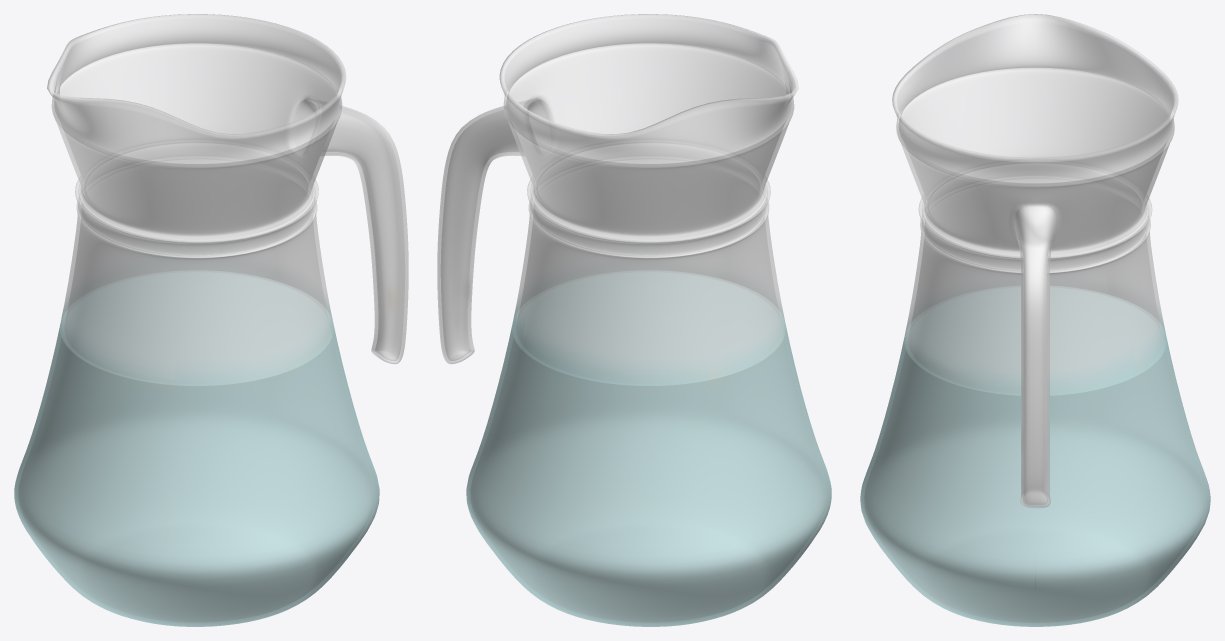
File: jatrjar.gltf
3 renders of one model, left to right at view 1: azimuth 30°, elevation 25°; view 2: azimuth 150°, elevation 25°; view 3: azimuth 270°, elevation 25°, orthographic. The views are drawn at different scales.
Visible parts, largest first — view 1: Circle.001; view 2: Circle.001; view 3: Circle.001.
Boxes of the visible parts, x1,y1,x2,y2 form: Circle.001: [14, 14, 408, 626]; Circle.001: [437, 14, 831, 626]; Circle.001: [860, 14, 1210, 626].
Size of the model in its own units: 1.66 by 2.27 by 1.44.
1 material, 1 textured.
